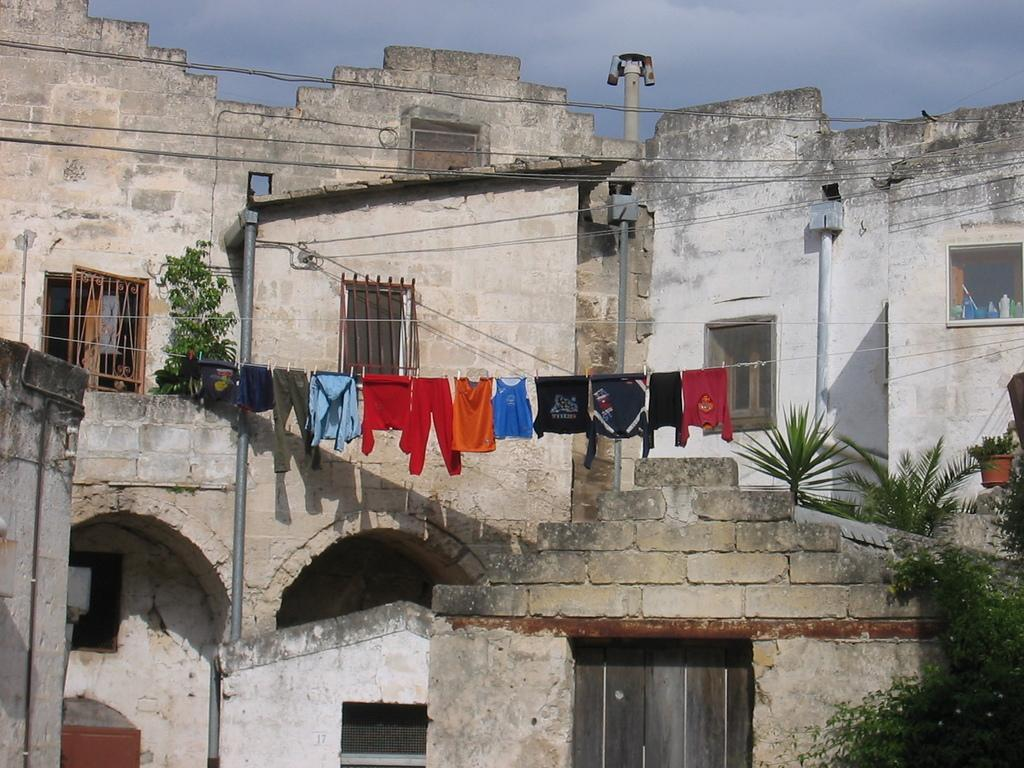door: (578, 641, 748, 768)
